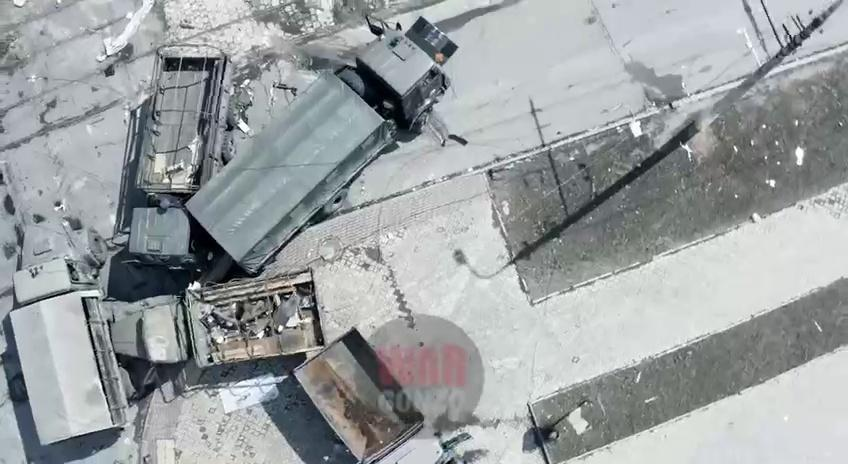truck: (182, 12, 459, 276), (9, 221, 131, 448), (128, 45, 240, 270), (109, 266, 328, 370)
